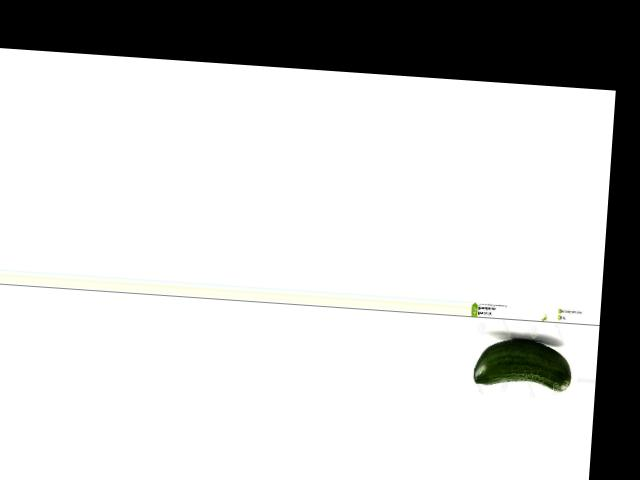cucumber: (473, 336, 573, 390)
